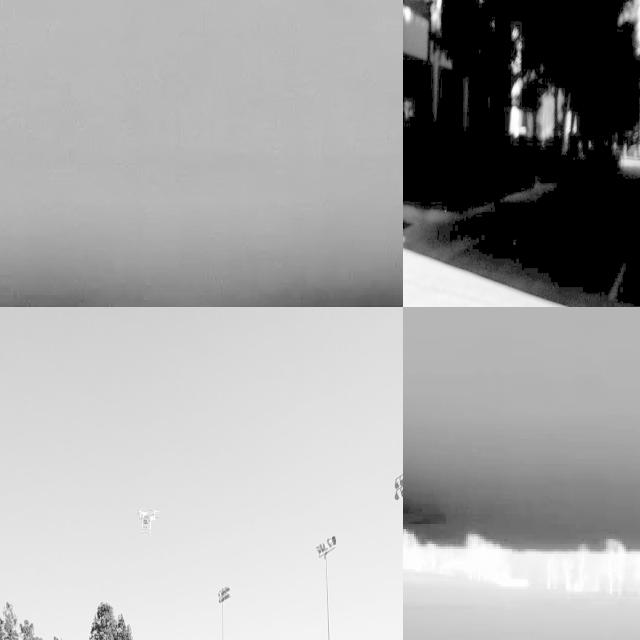drone: (136, 509, 159, 533)
